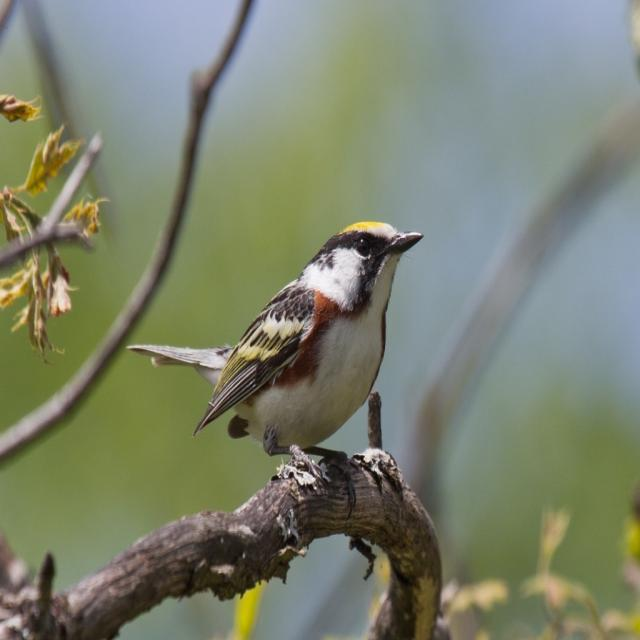bird: (204, 211, 439, 473)
